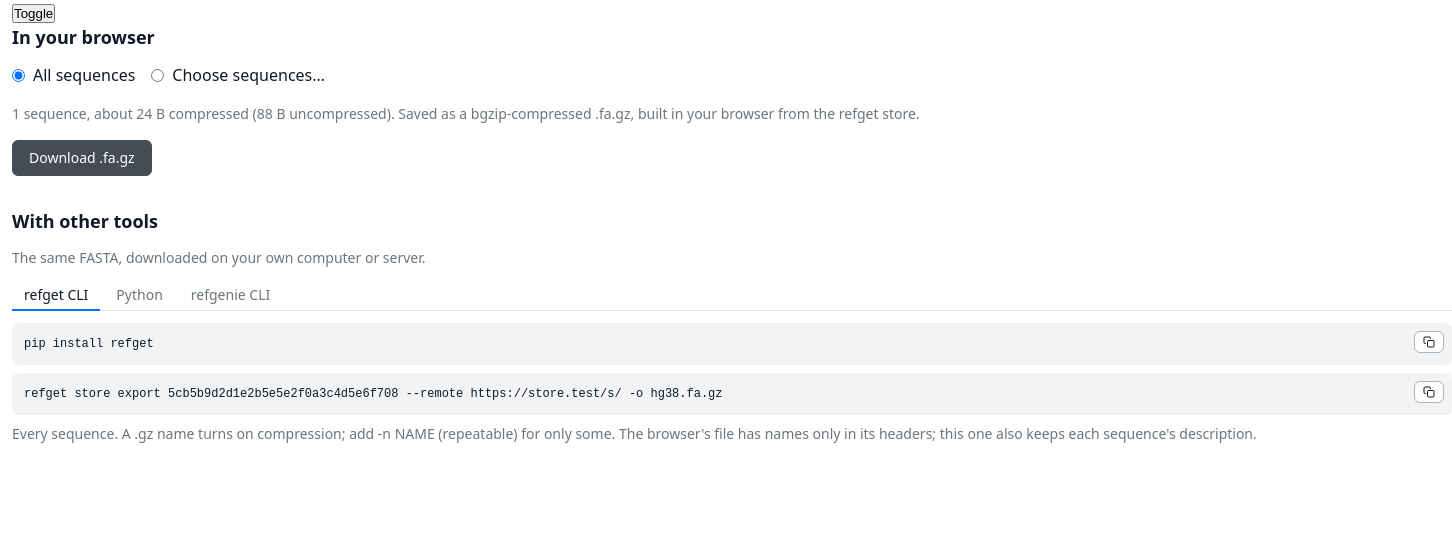
it: Download tab › explains, without saving, when all sequences include one it cannot rebuild
Expected: the text "1 sequence," is shown, [12,104,398,123]
Click the button "Download .fa.gz": click(82, 158) [12,140,152,176]
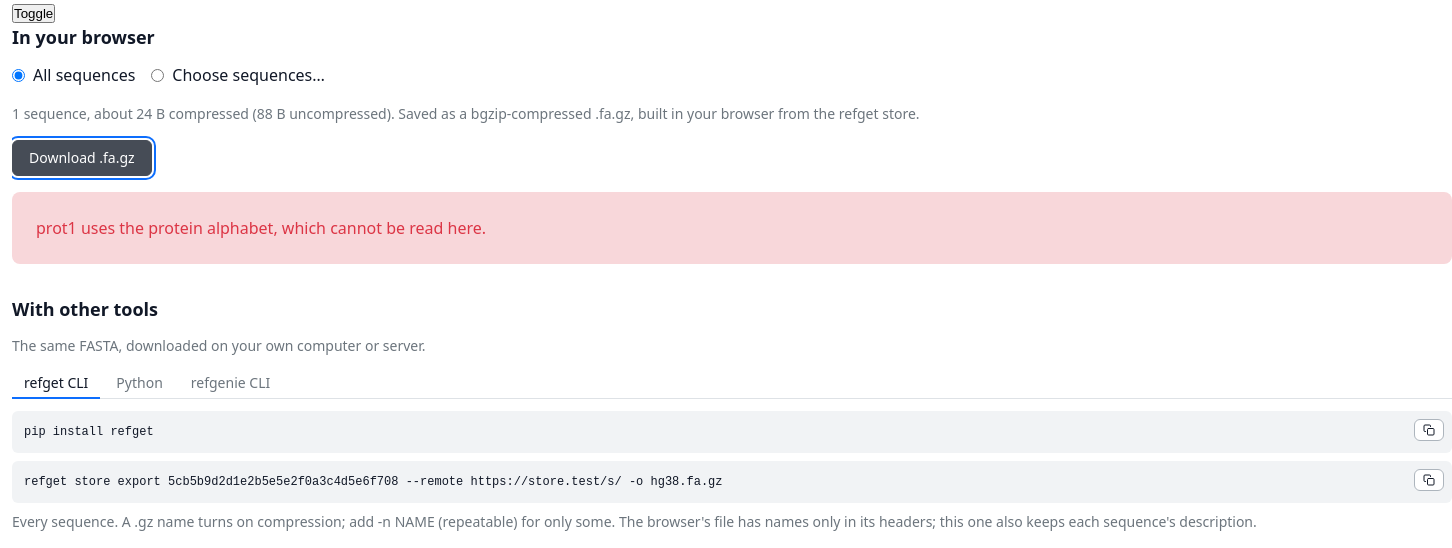
Expected: the message reads "prot1 uses the protein alphabet, which cannot be read here.", [36,216,486,238]
